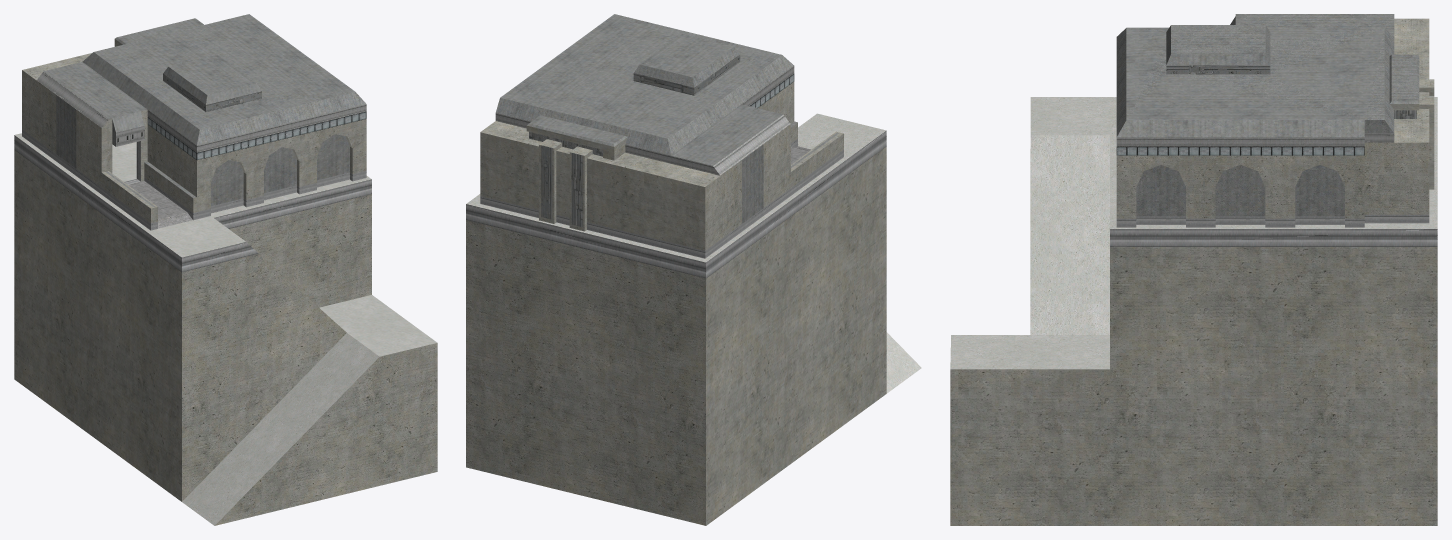
The model's file is ply_all_house_sm_s01_fp1_r0_exterior_mesh_l1.fbx.
The picture shows the model from 3 angles, left to right: view 1: azimuth 30°, elevation 25°; view 2: azimuth 150°, elevation 25°; view 3: azimuth 270°, elevation 25°; orthographic projection. The views are drawn at different scales.
Parts seen in each view (by area): view 1: mesh_node; view 2: mesh_node; view 3: mesh_node.
Boxes of the visible parts, <box> form: mesh_node: <box>14,14,437,525</box>; mesh_node: <box>466,14,921,525</box>; mesh_node: <box>950,14,1437,525</box>.
Size of the model in its own units: 15.74 by 23.24 by 24.55.
